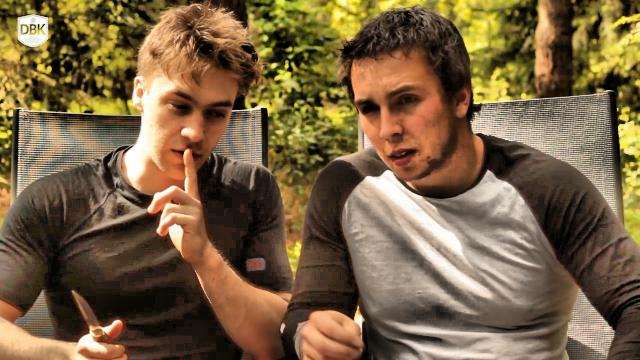knife: (65, 283, 132, 360)
